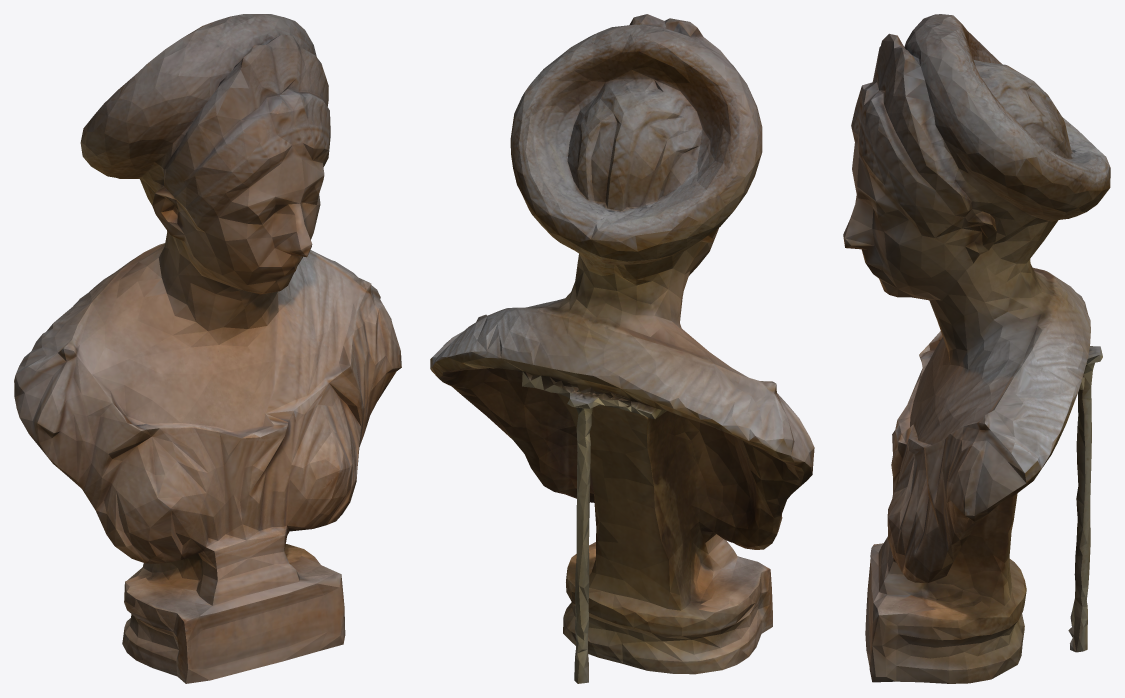
The model's file is claudia.obj.
The picture shows the model from 3 angles, left to right: view 1: azimuth 30°, elevation 25°; view 2: azimuth 150°, elevation 25°; view 3: azimuth 270°, elevation 25°; orthographic projection. The views are drawn at different scales.
Visible parts, largest first — view 1: claudia; view 2: claudia; view 3: claudia.
Boxes of the visible parts, x1,y1,x2,y2 form: claudia: (14, 14, 401, 683); claudia: (430, 14, 814, 683); claudia: (843, 14, 1110, 683).
Bounding box in the file's own units: 1.29 × 2.05 × 0.8032.
Materials: 1 (1 with a texture image).
